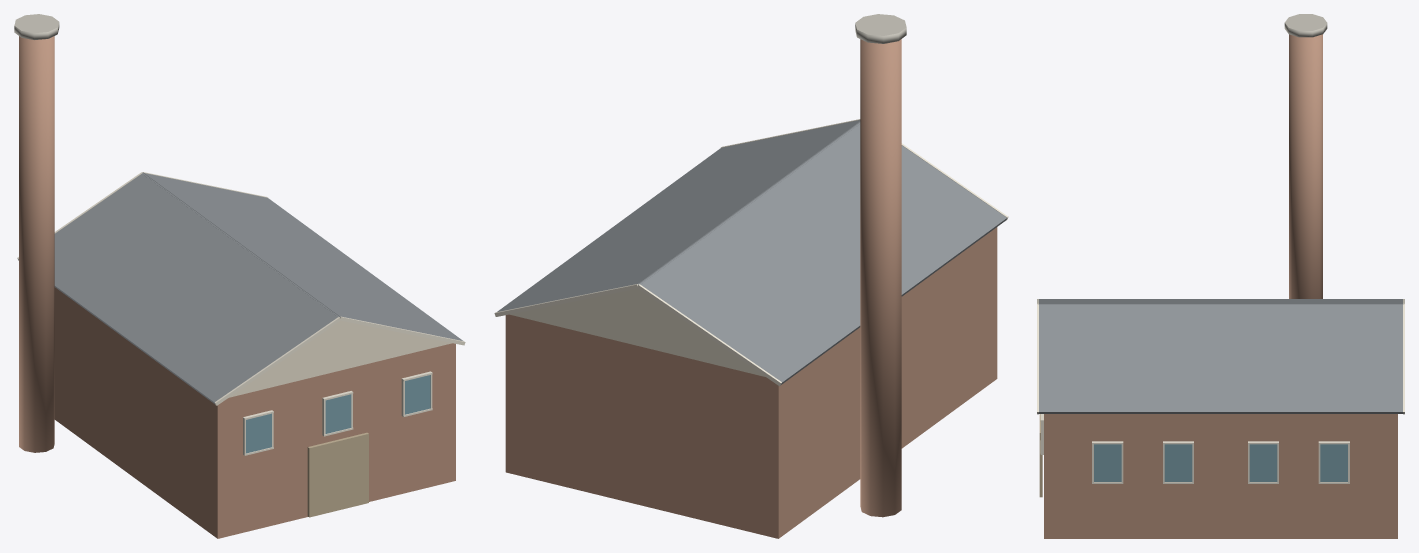
Rendered from tyne-factory_lod1.glb.
3 renders of one model, left to right at view 1: azimuth 30°, elevation 25°; view 2: azimuth 150°, elevation 25°; view 3: azimuth 270°, elevation 25°, orthographic. The views are drawn at different scales.
Visible parts, largest first — view 1: RF_IndustrialHall, RF_Roof.001, RF_FactoryStack, RF_Roof, RF_Gable, RF_LoadingDoor, RF_StackCap, RF_Window.006, RF_Window.005, RF_Window, RF_Vergeband.001, RF_Vergeband.003; view 2: RF_IndustrialHall, RF_Roof.001, RF_FactoryStack, RF_Roof, RF_Gable.001, RF_StackCap, RF_Vergeband.002, RF_Vergeband, RF_Ridge; view 3: RF_Roof, RF_IndustrialHall, RF_FactoryStack, RF_Roof.001, RF_Window.002, RF_Window.003, RF_Window.001, RF_Window.004, RF_StackCap.
Boxes of the visible parts, bbox=[...] form: RF_IndustrialHall: bbox=[54, 287, 455, 538]; RF_Roof.001: bbox=[18, 173, 338, 404]; RF_FactoryStack: bbox=[19, 36, 54, 452]; RF_Roof: bbox=[144, 173, 462, 340]; RF_Gable: bbox=[229, 320, 451, 397]; RF_LoadingDoor: bbox=[307, 432, 368, 517]; RF_StackCap: bbox=[14, 14, 59, 39]; RF_Window.006: bbox=[325, 394, 351, 433]; RF_Window.005: bbox=[246, 413, 271, 453]; RF_Window: bbox=[405, 375, 430, 414]; RF_Vergeband.001: bbox=[215, 317, 340, 405]; RF_Vergeband.003: bbox=[340, 316, 465, 345]; RF_IndustrialHall: bbox=[505, 227, 997, 538]; RF_Roof.001: bbox=[640, 123, 1006, 384]; RF_FactoryStack: bbox=[860, 39, 901, 517]; RF_Roof: bbox=[497, 120, 860, 311]; RF_Gable.001: bbox=[509, 288, 765, 376]; RF_StackCap: bbox=[855, 14, 906, 43]; RF_Vergeband.002: bbox=[637, 284, 781, 386]; RF_Vergeband: bbox=[494, 284, 638, 316]; RF_Ridge: bbox=[638, 121, 860, 285]; RF_Roof: bbox=[1038, 304, 1403, 413]; RF_IndustrialHall: bbox=[1044, 414, 1397, 538]; RF_FactoryStack: bbox=[1289, 34, 1322, 298]; RF_Roof.001: bbox=[1038, 299, 1403, 304]; RF_Window.002: bbox=[1164, 444, 1192, 481]; RF_Window.003: bbox=[1249, 444, 1277, 481]; RF_Window.001: bbox=[1094, 444, 1121, 481]; RF_Window.004: bbox=[1320, 444, 1347, 481]; RF_StackCap: bbox=[1284, 14, 1327, 37].
Bounding box in the file's own units: 22.87 × 30.45 × 25.98.
